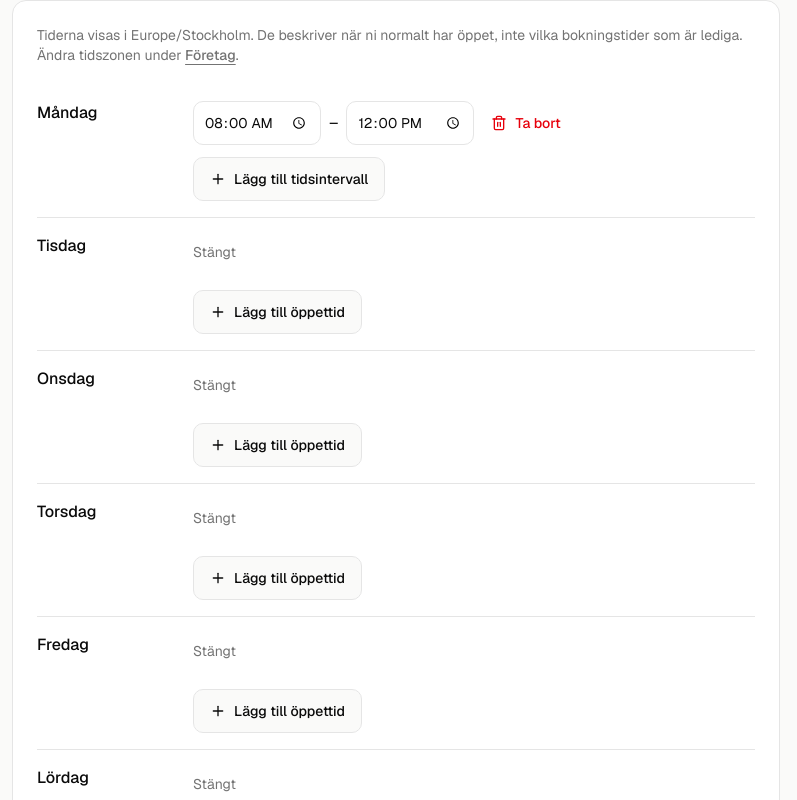
Test: settings form behavior › removes intervals only in the draft and restores the saved schedule
This screenshot has width=797, height=800.
Click the button "Ta bort" at (526, 123), box left=482, top=101, right=570, bottom=145
(page scrolled)
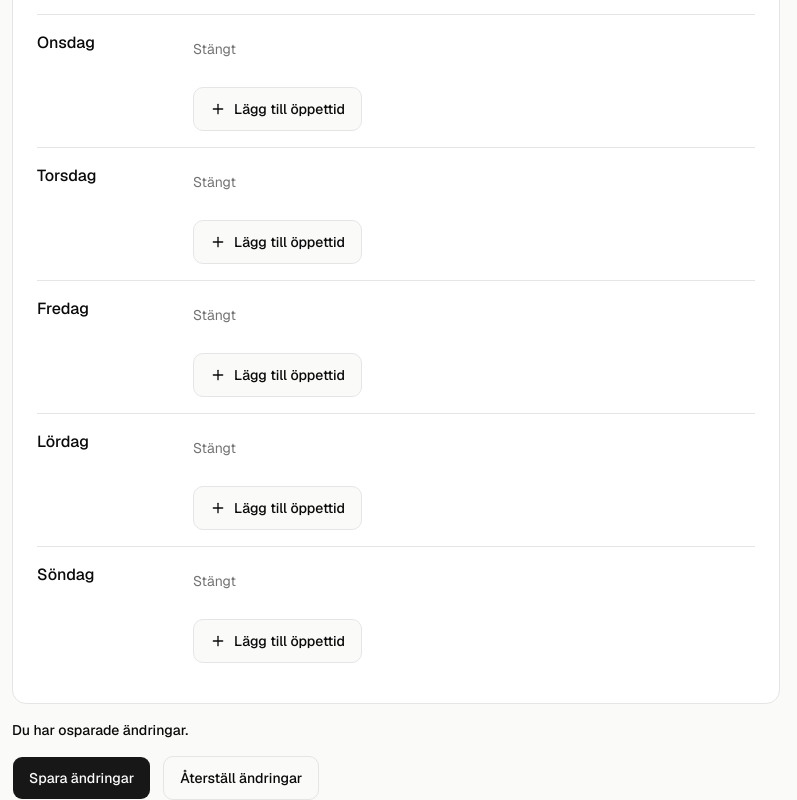
Now the text "Du har osparade ändringar." is shown, box left=12, top=721, right=188, bottom=739
Click the button "Återställ ändringar" at (241, 778), box left=163, top=756, right=319, bottom=799
(page scrolled)
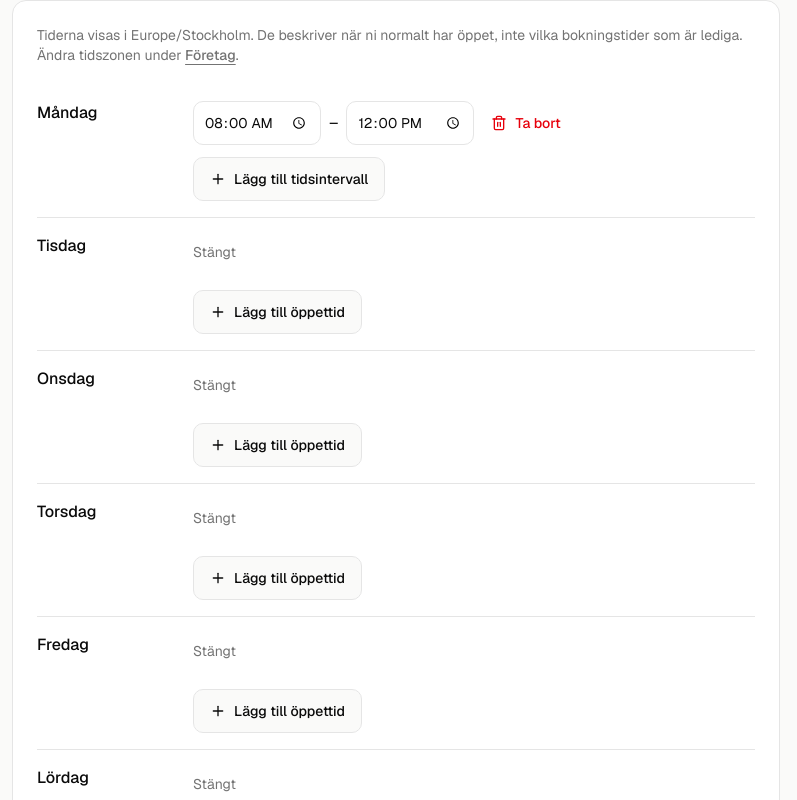
Now the time field named "Måndag öppnar, intervall 1" is shown, box left=193, top=101, right=321, bottom=145
Now the text "Du har osparade ändringar." is gone
